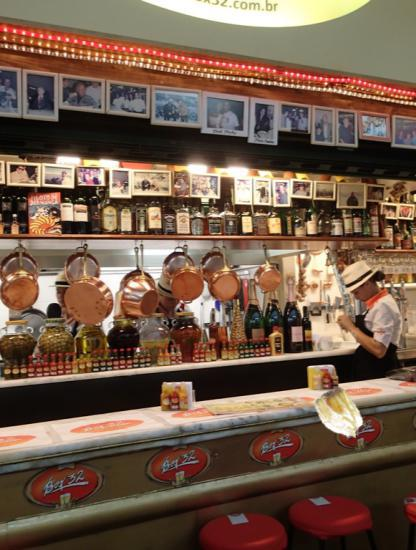Physalis: (312, 387, 369, 444)
